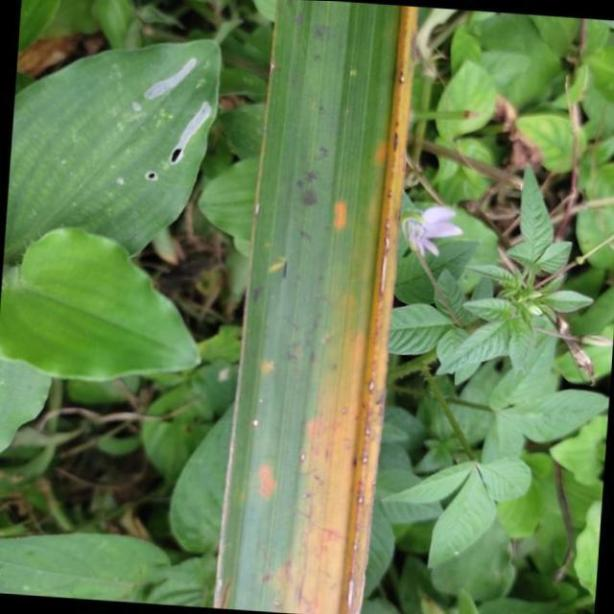Megnesium: (213, 0, 414, 614)
